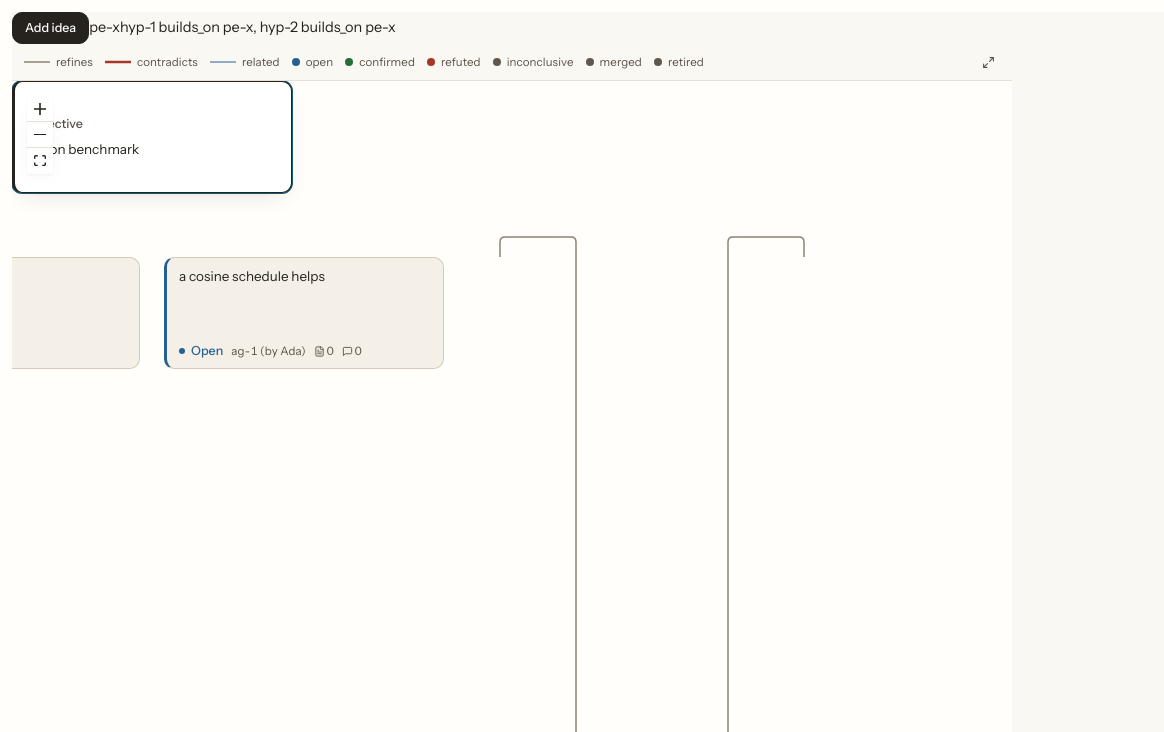
Test case: on the graph › shows the refusal of the platform
Click the button "Add idea".
click(51, 28)  # box [12,12,89,44]
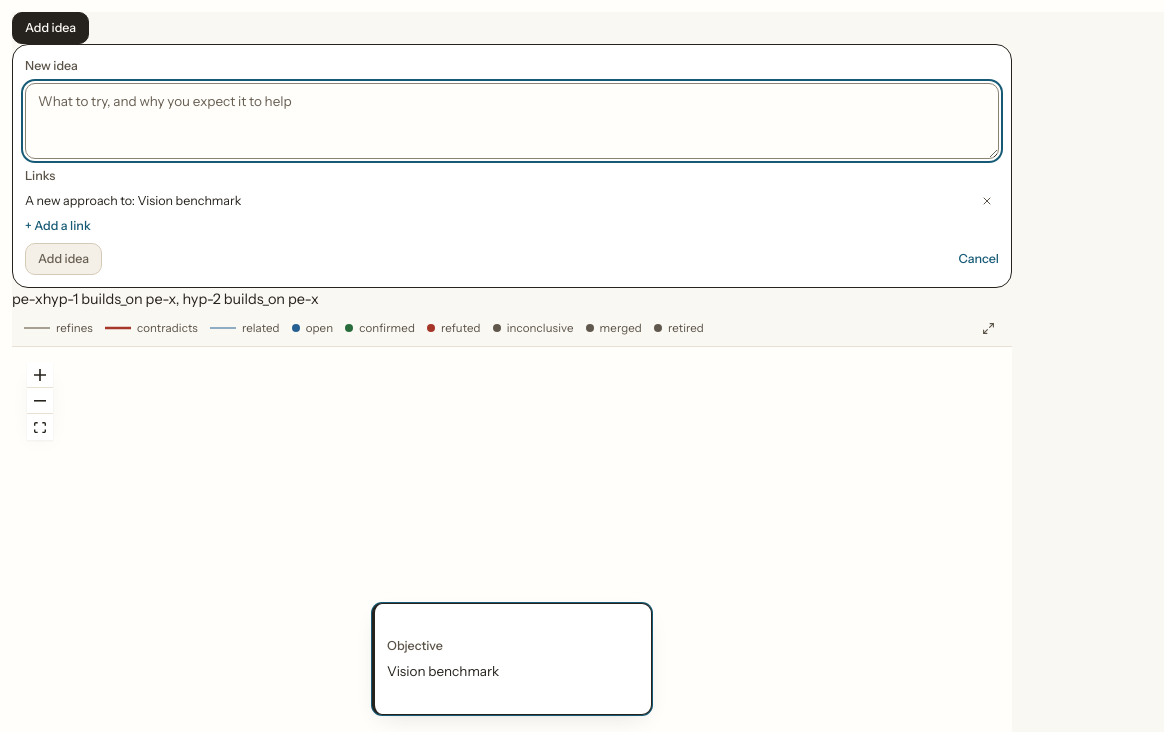
Type "label smoothing helps" into the text box named "Your idea".
click(512, 121); type("label smoothing helps")  # box [25,83,999,159]
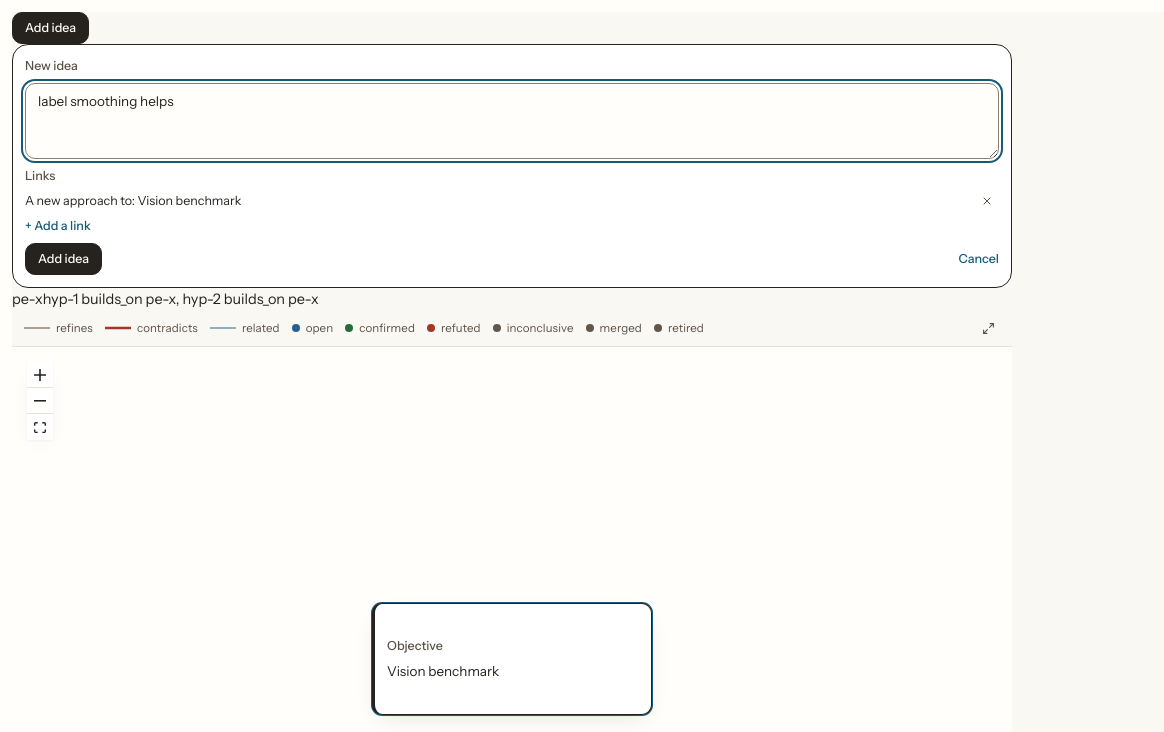
Click the button "Add idea" below "A new approach to: Vision benchmark".
click(64, 259)  # box [25,243,102,275]
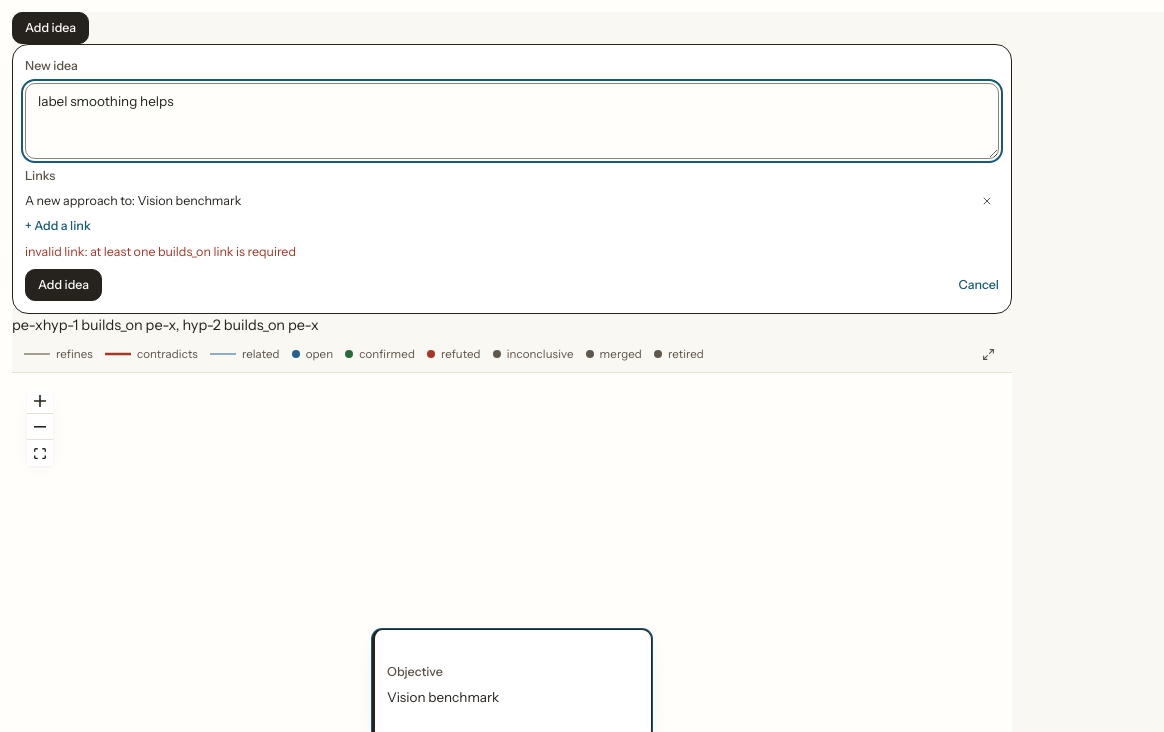
Check: the text "invalid link: at least one builds_on link is required" is shown, box [25,244,296,259]
